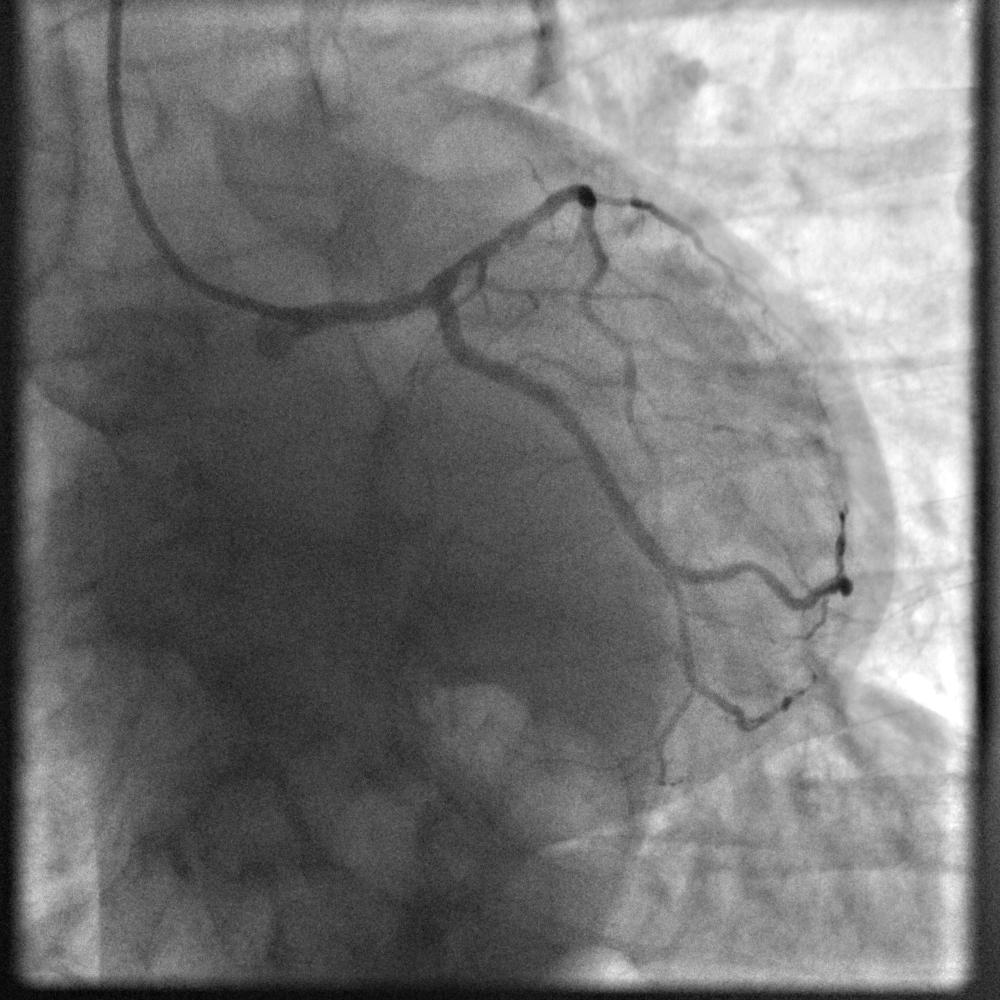Stenosis: (489, 227, 513, 254)
